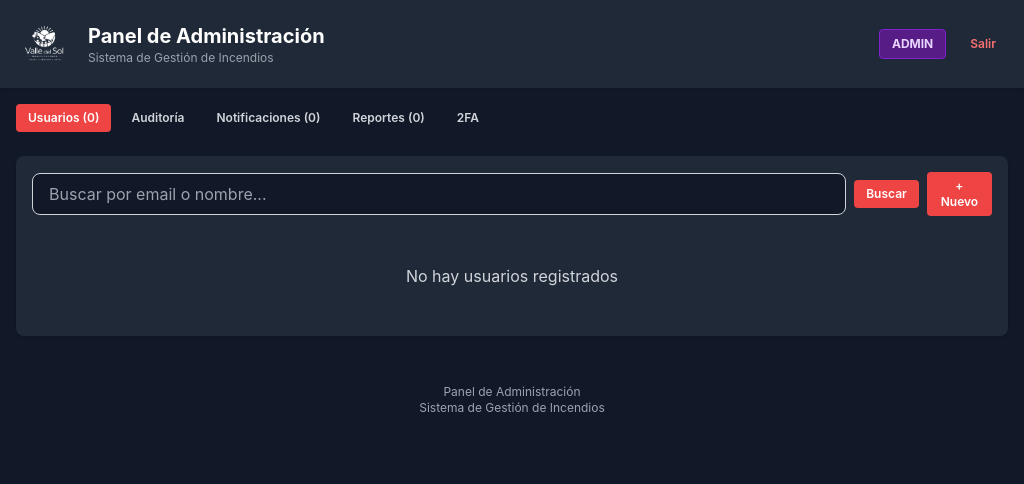
AdminPage Reports Tab › should render reports tab with data
The image size is (1024, 484).
Click the button "Reportes (0)": (389, 118) [340, 104, 437, 132]
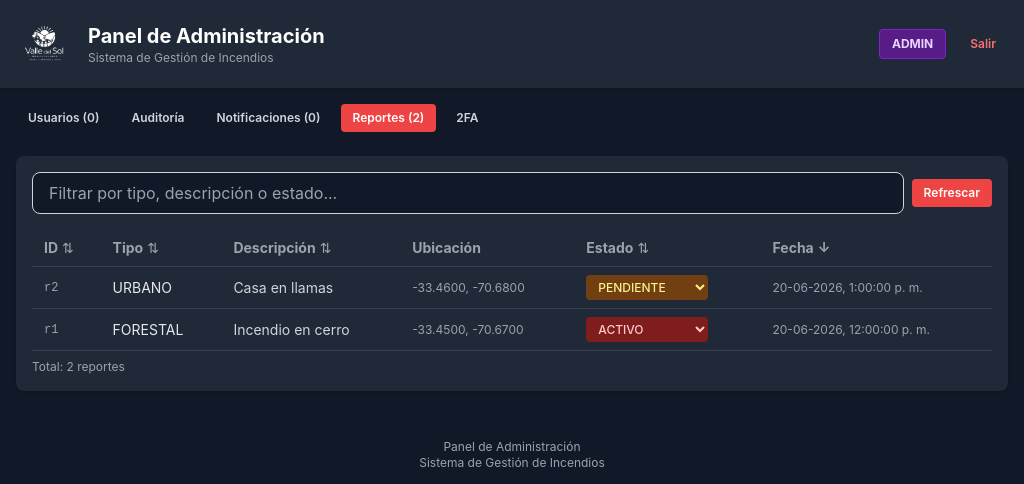
Now the text "Incendio en cerro" is shown, box [221, 308, 400, 350]
Now the text "Casa en llamas" is shown, box [221, 266, 400, 308]
